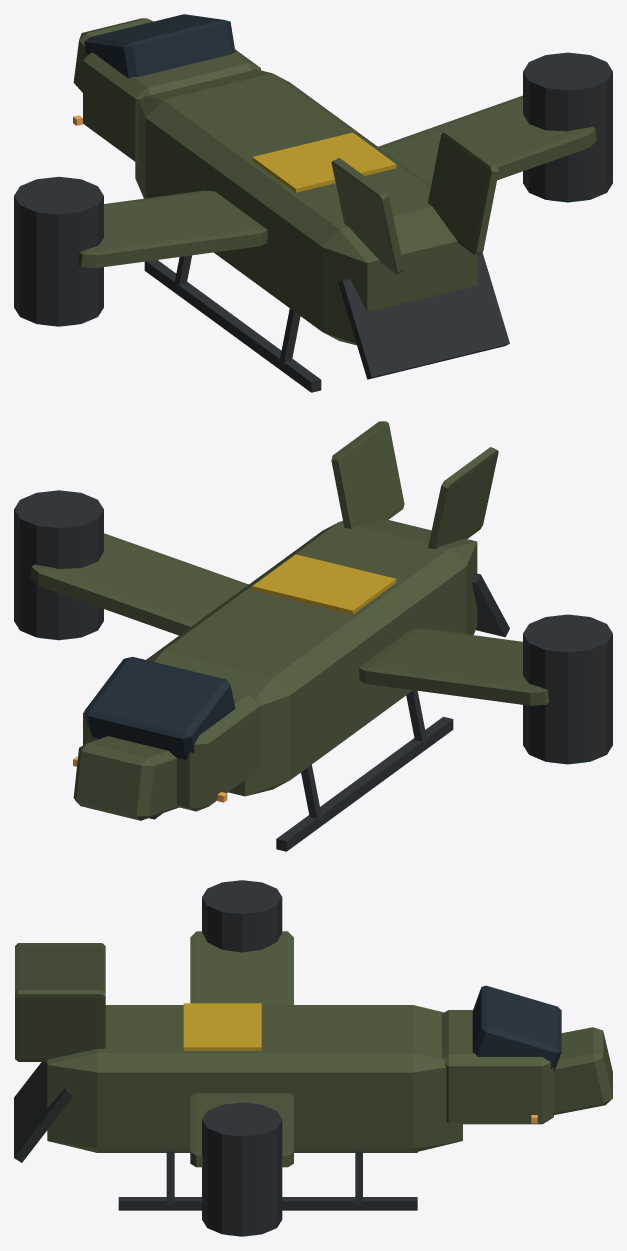
Rendered from Dropship.fbx.
3 views of the same model, one above another, from view 1: azimuth 30°, elevation 25°; view 2: azimuth 150°, elevation 25°; view 3: azimuth 270°, elevation 25° (orthographic). The views are drawn at different scales.
Parts seen in each view (by area): view 1: Dropship; view 2: Dropship; view 3: Dropship.
Boxes of the visible parts, box(x1,y1,x2,y2) form: Dropship: box(14, 14, 612, 392); Dropship: box(14, 421, 612, 851); Dropship: box(14, 880, 612, 1236).
Bounding box in the file's own units: 9.34 × 3.61 × 9.22.
